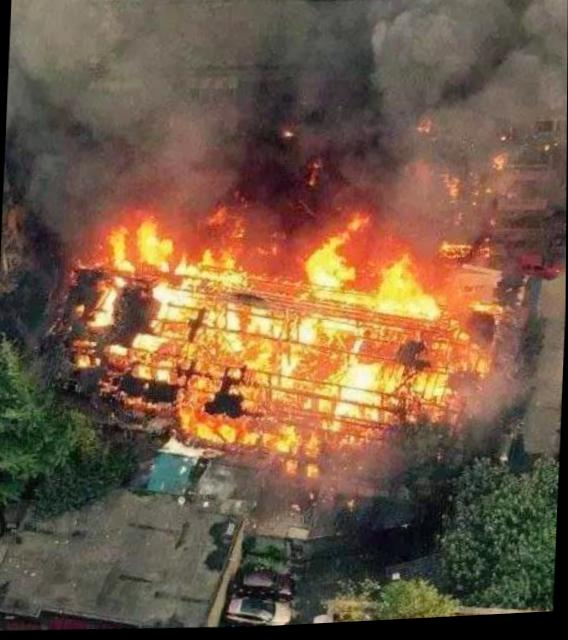fire: (60, 197, 504, 484)
